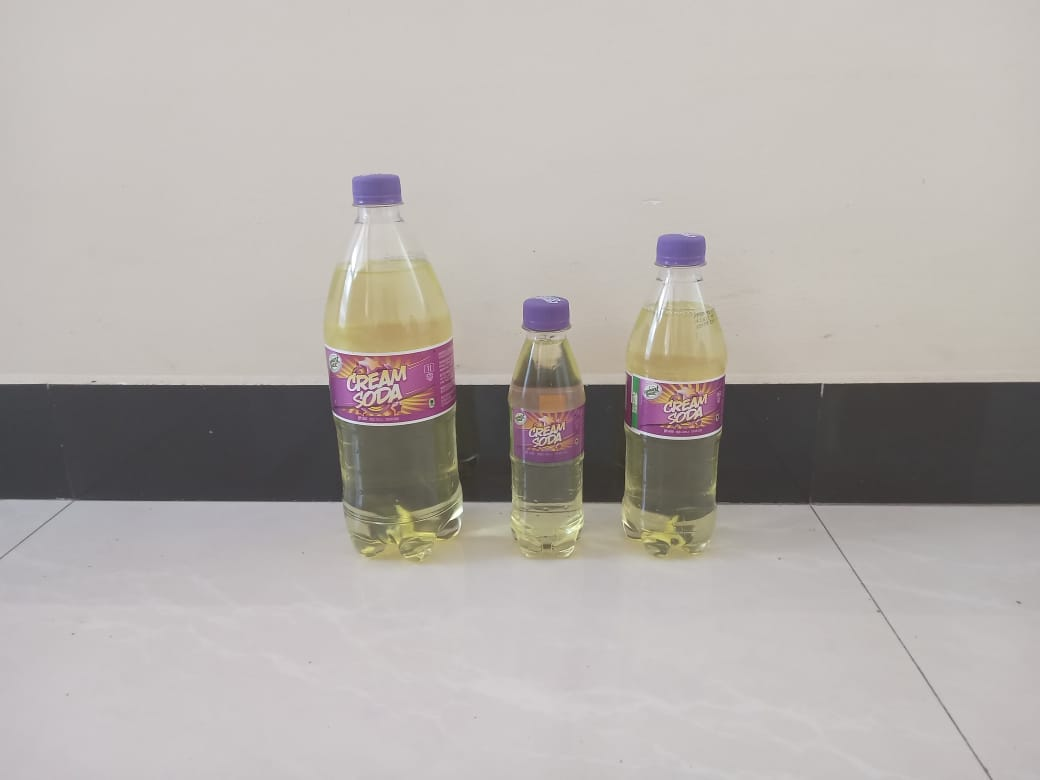L: (321, 175, 467, 565)
S: (620, 235, 730, 561)
Xs: (500, 294, 593, 561)
